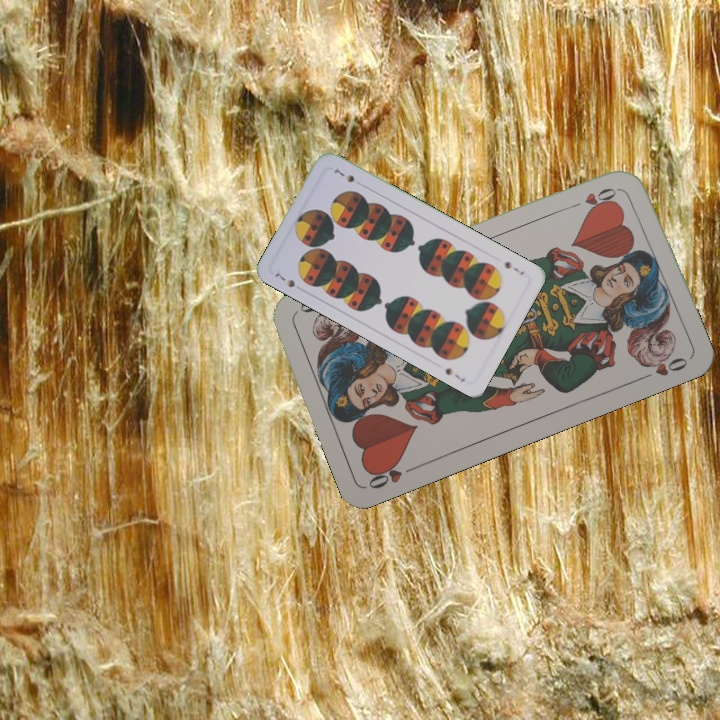HO: (364, 458, 420, 492), (565, 183, 622, 211)
S7: (270, 269, 297, 290), (501, 257, 527, 278)
